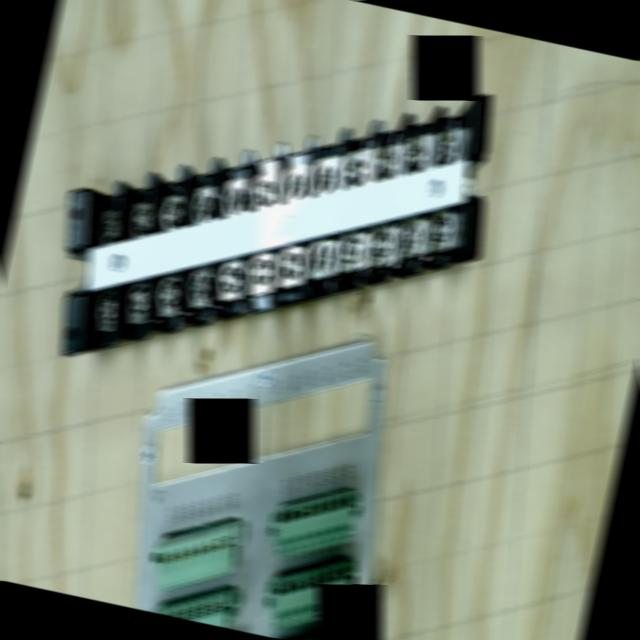Phillips_Block: (27, 94, 527, 353)
Terminal_2: (264, 490, 364, 557), (261, 562, 361, 629)
